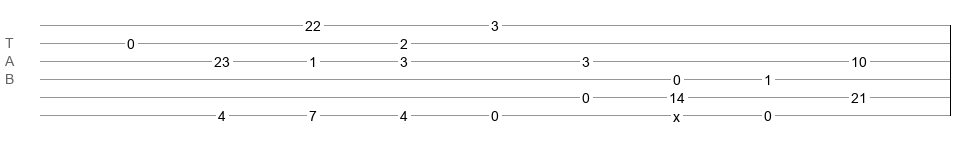0: (127, 36, 135, 46), (491, 108, 499, 118), (582, 90, 590, 100), (673, 72, 681, 82), (764, 108, 772, 118)
1: (309, 54, 317, 64), (764, 72, 772, 82)
10: (851, 54, 867, 64)
14: (669, 90, 685, 100)
2: (400, 36, 408, 46)
21: (851, 90, 867, 100)
22: (305, 18, 321, 28)
23: (214, 54, 230, 64)
3: (400, 54, 408, 64), (491, 18, 499, 28), (582, 54, 590, 64)
4: (218, 108, 226, 118), (400, 108, 408, 118)
7: (309, 108, 317, 118)
x: (673, 109, 680, 117)
